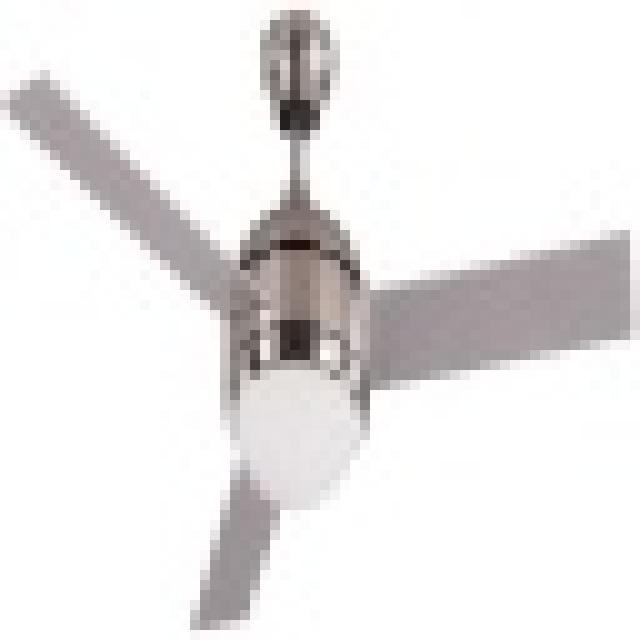Bulb: (10, 40, 620, 640)
